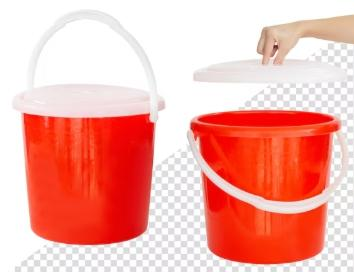SEAU: (1, 0, 354, 272)
